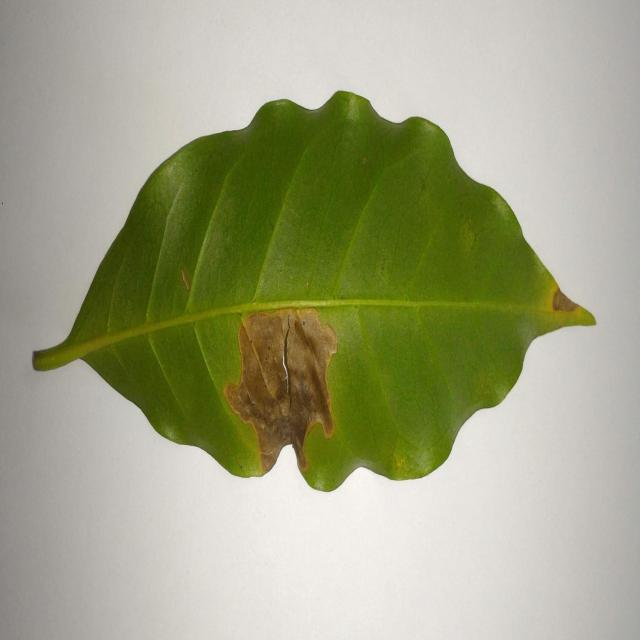Plaga-Minador: (30, 92, 598, 495)
